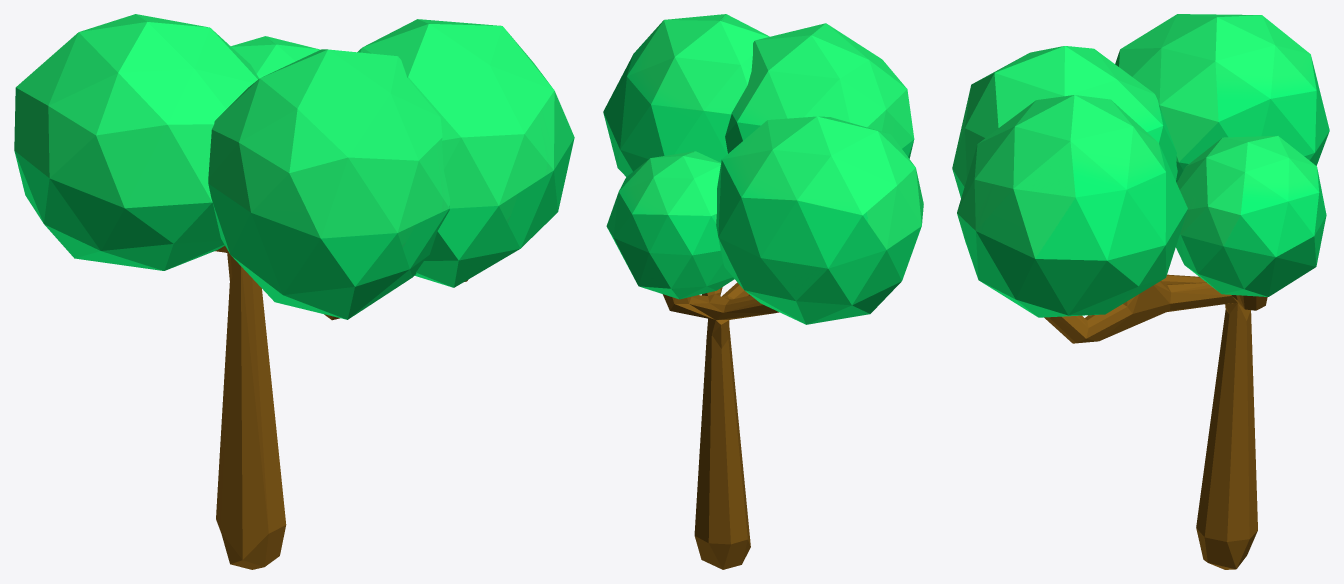
The model's file is tree1.fbx.
3 views of the same model, side by side, from view 1: azimuth 30°, elevation 25°; view 2: azimuth 150°, elevation 25°; view 3: azimuth 270°, elevation 25° (orthographic). The views are drawn at different scales.
Parts seen in each view (by area): view 1: Куб; view 2: Куб; view 3: Куб.
Part boxes in pixels (x1,y1,x2,y2): Куб: (14,14,574,569); Куб: (603,14,923,569); Куб: (952,14,1329,569).
Size of the model in its own units: 700 by 902 by 597.
Materials: 1 (1 with a texture image).
